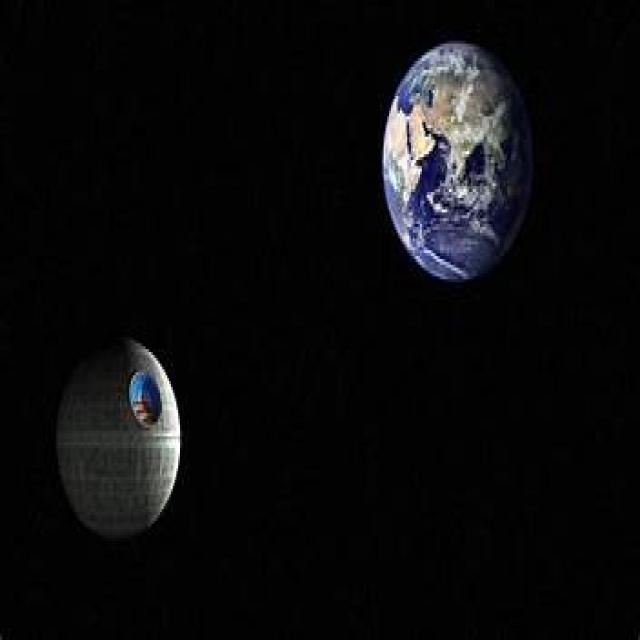deathStar: (56, 336, 185, 537)
